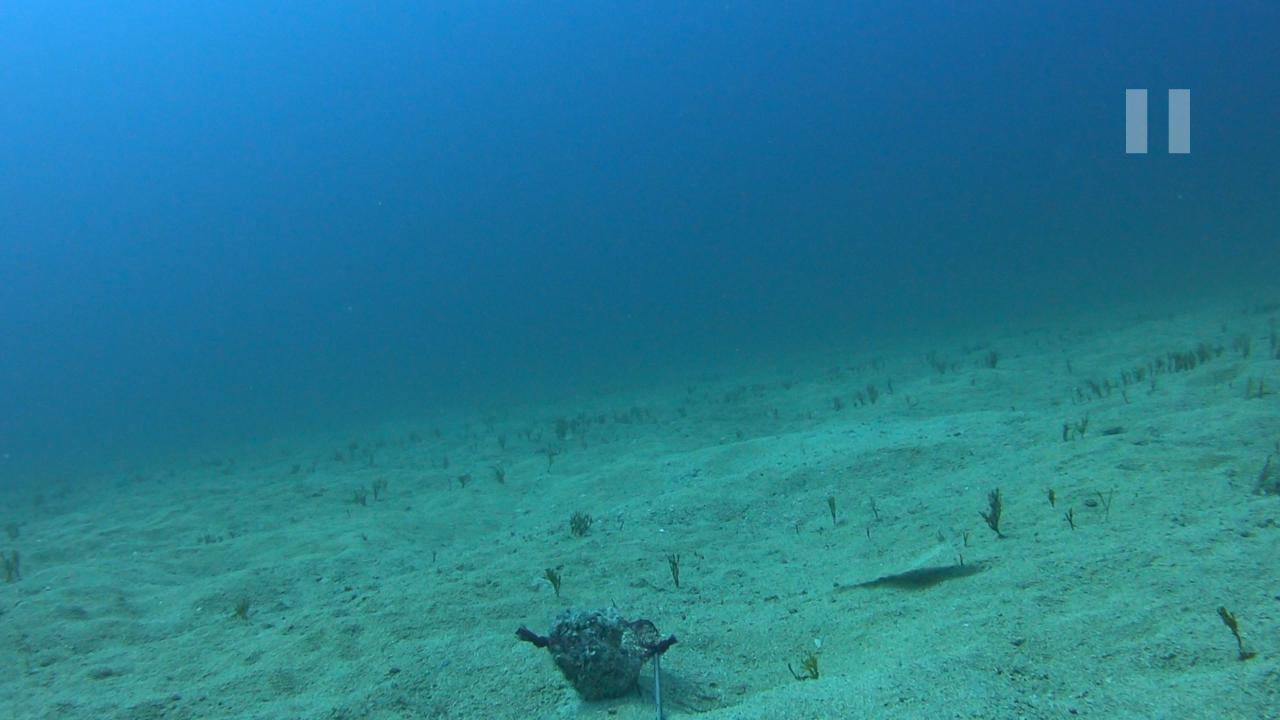bothus: (816, 516, 973, 593)
